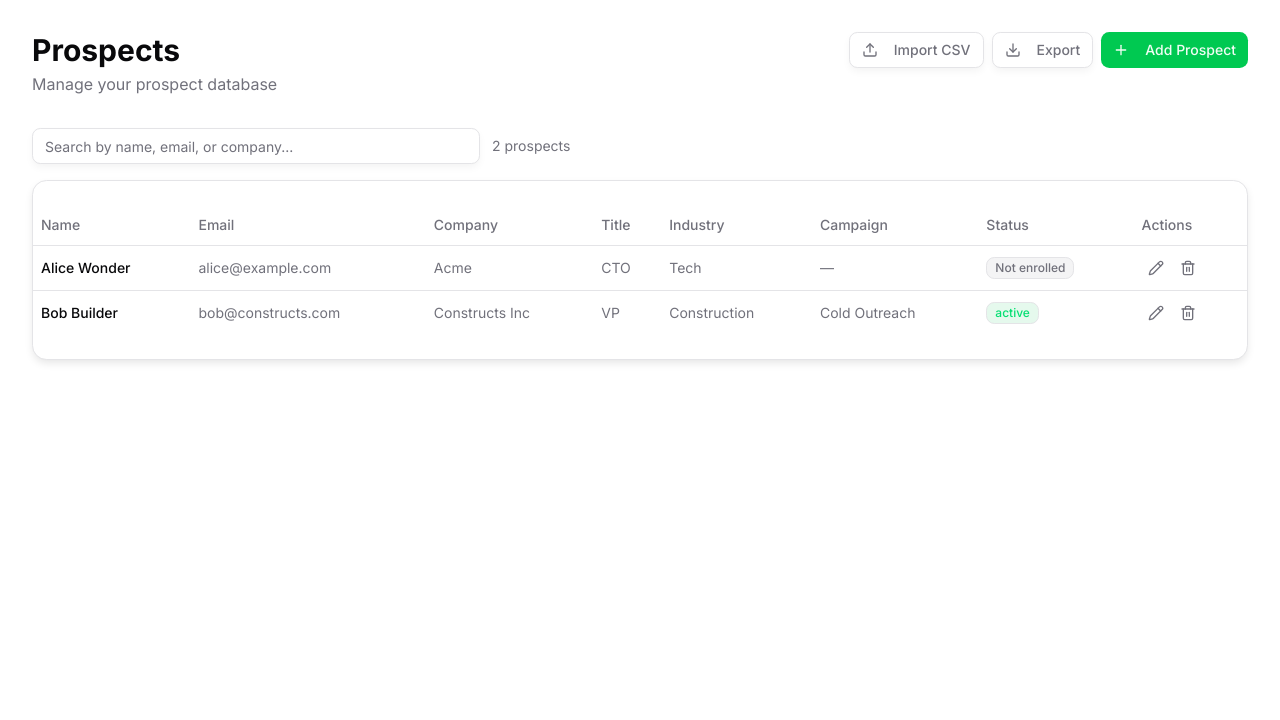
Test: ProspectsClient › edit button opens dialog pre-filled with prospect data
The image size is (1280, 720).
Expected: the row "Alice Wonder alice@example.com Acme CTO Tech — Not enrolled" is shown, [33,245,1247,290]
// Find and click the edit (pencil) button for Alice
Click the 4th button at coordinates (1156, 268), box [1142,254,1170,282]
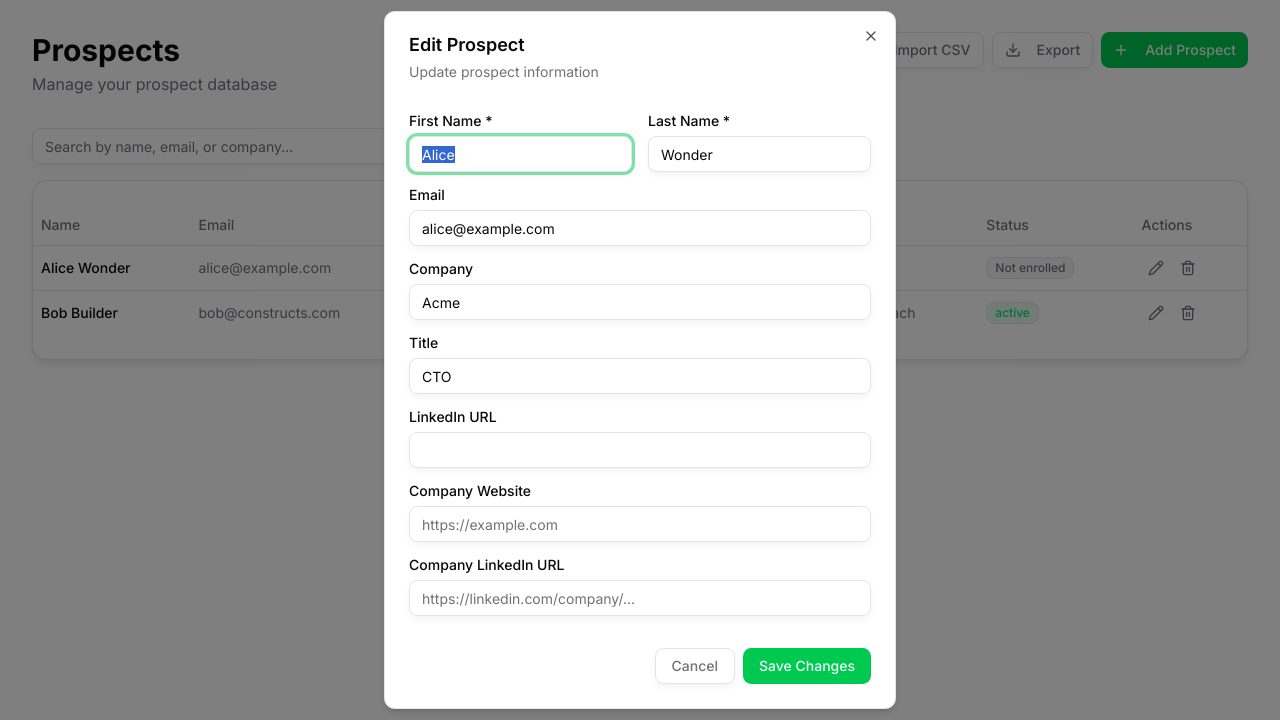
Now the heading "Edit Prospect" is shown, box [409,34,525,55]
Now the field showing "Alice" below "First Name *" is shown, box [409,136,632,172]
